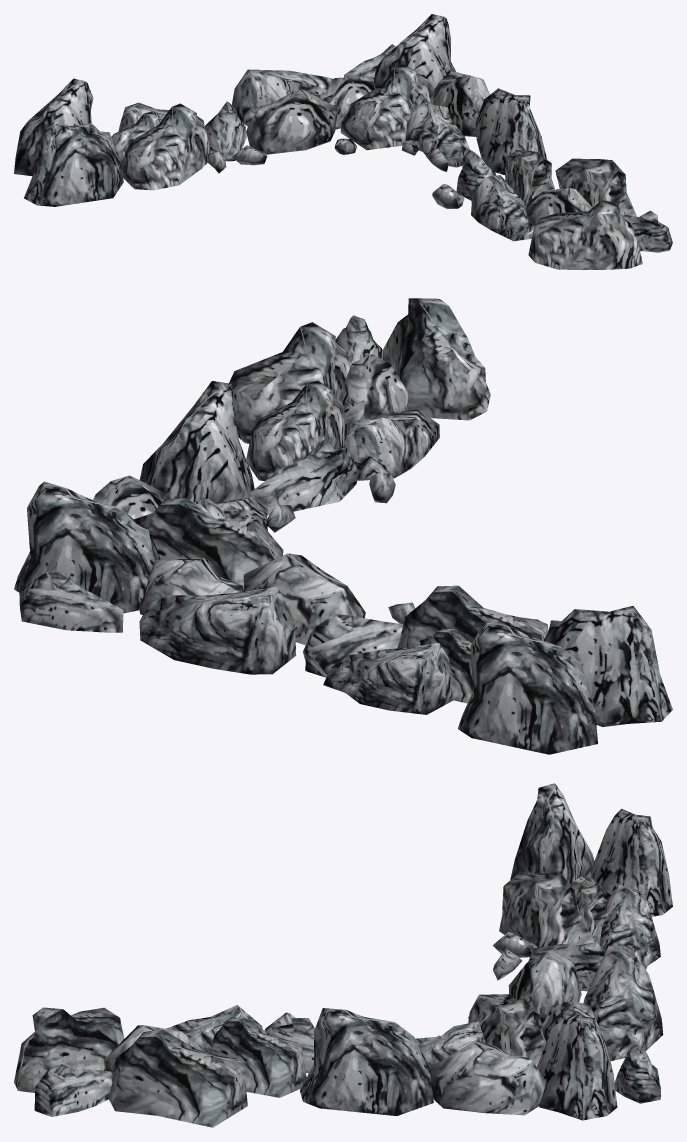
File: STR_WallBoulderD.FBX
3 renders of one model, top to bottom at view 1: azimuth 30°, elevation 25°; view 2: azimuth 150°, elevation 25°; view 3: azimuth 270°, elevation 25°, orthographic. The views are drawn at different scales.
Visible parts, largest first — view 1: STR_WallBoulderD; view 2: STR_WallBoulderD; view 3: STR_WallBoulderD.
Boxes of the visible parts, box(x1,y1,x2,y2) form: STR_WallBoulderD: box(14, 14, 672, 269); STR_WallBoulderD: box(14, 298, 672, 754); STR_WallBoulderD: box(14, 783, 672, 1127).
Size of the model in its own units: 1463 by 223 by 1485.
